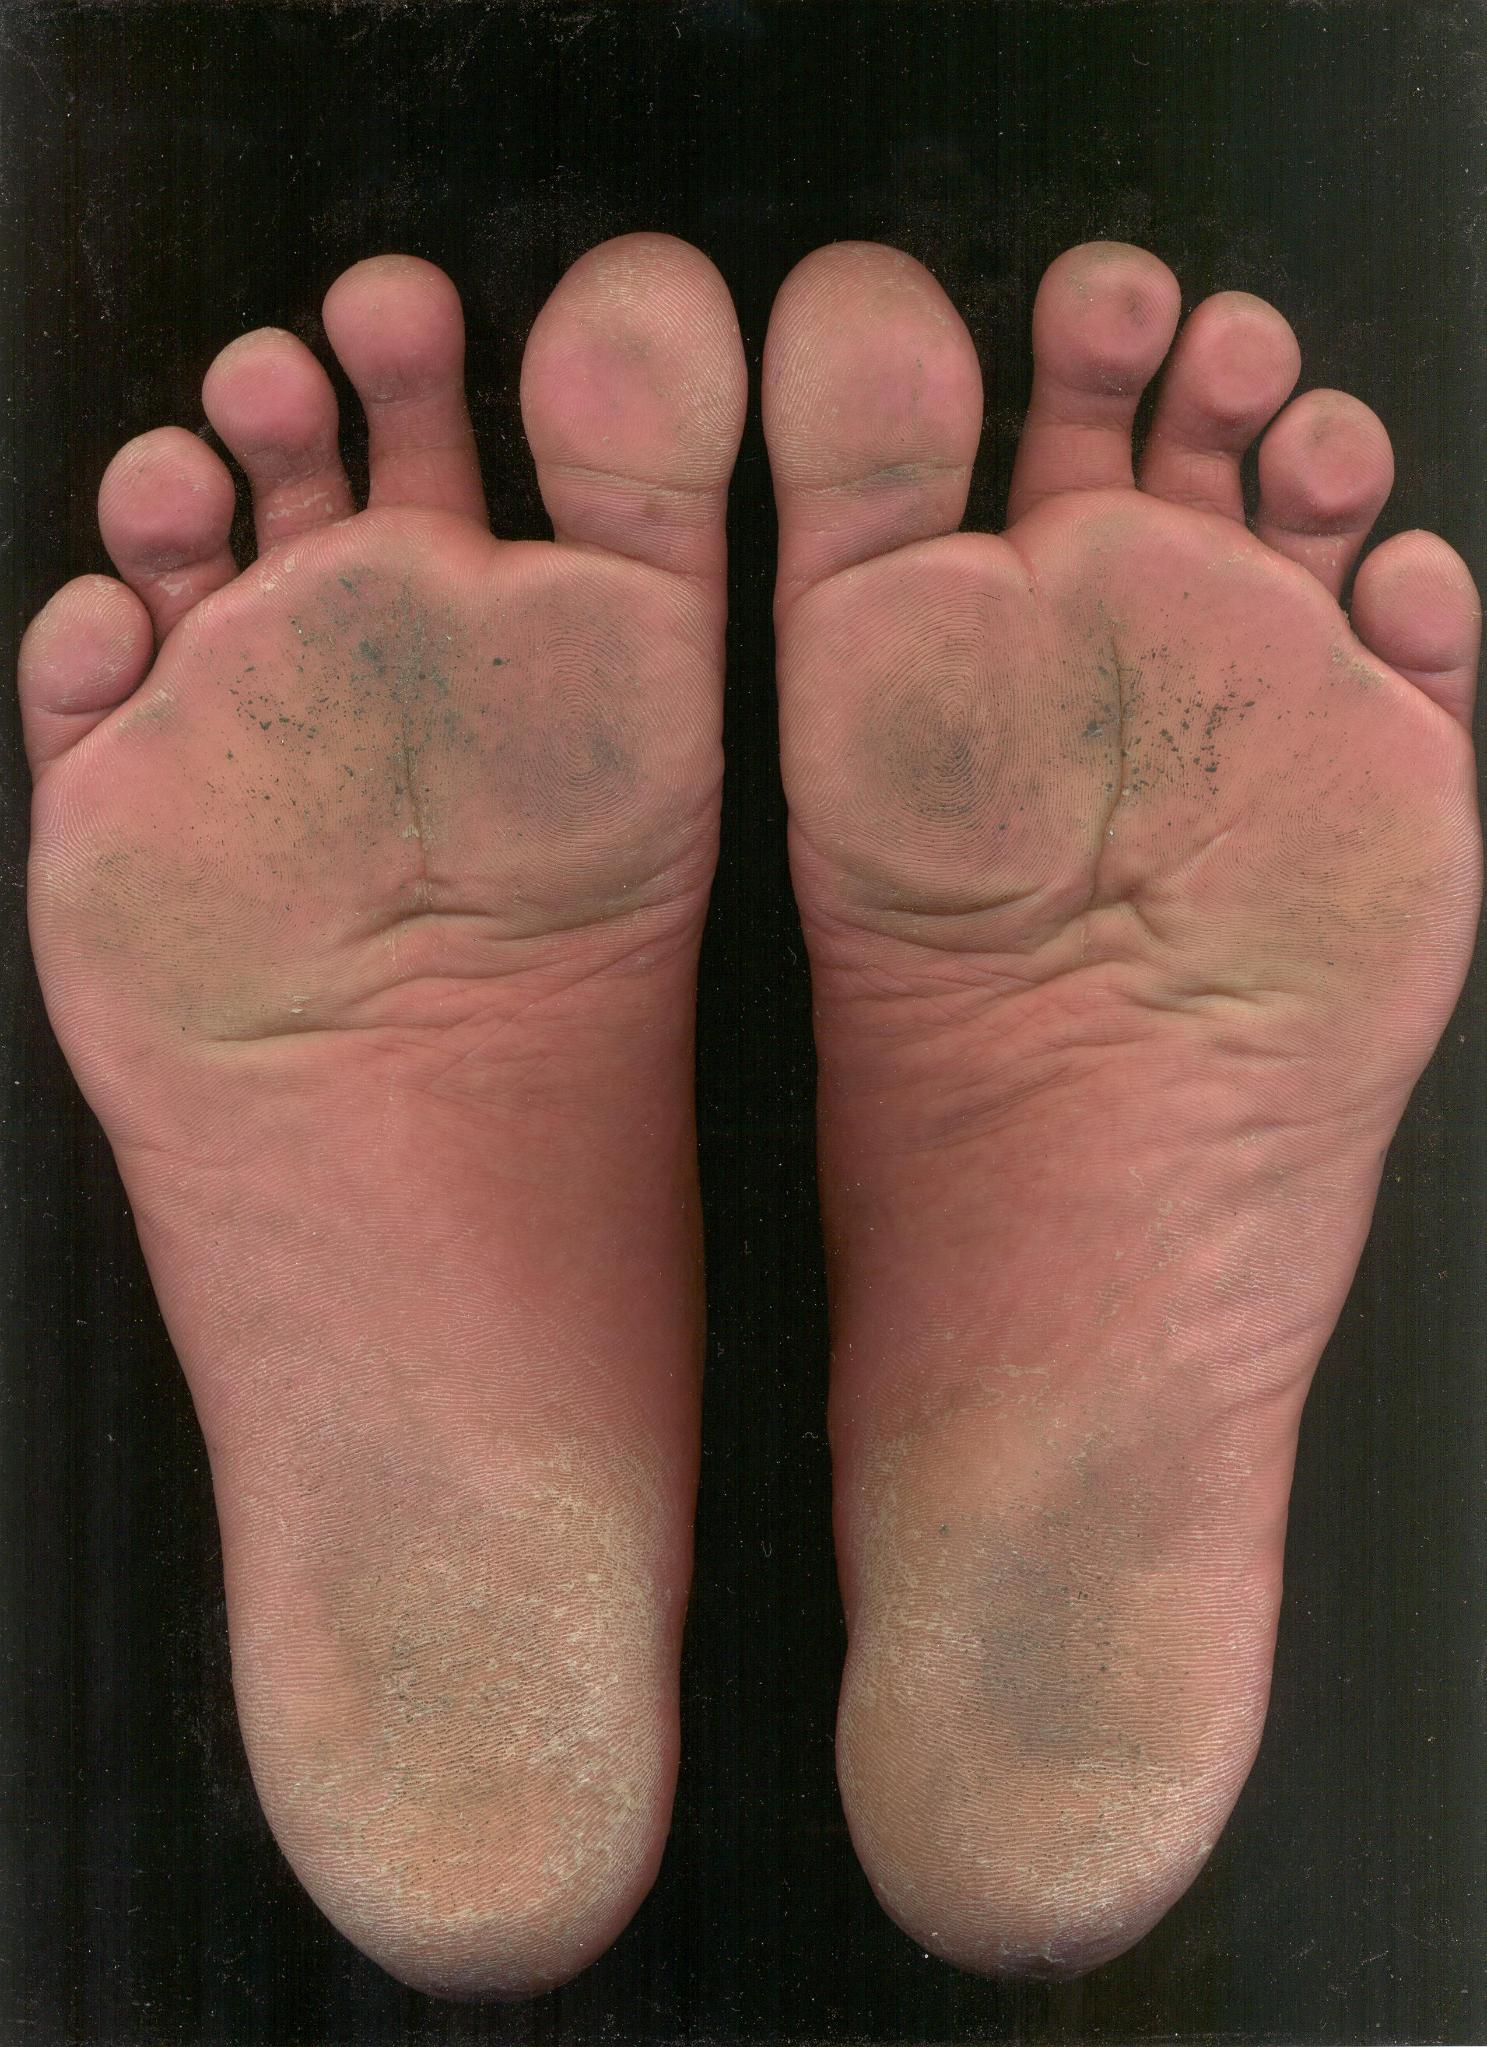Present: (0, 222, 758, 2001), (740, 210, 1487, 1977)
